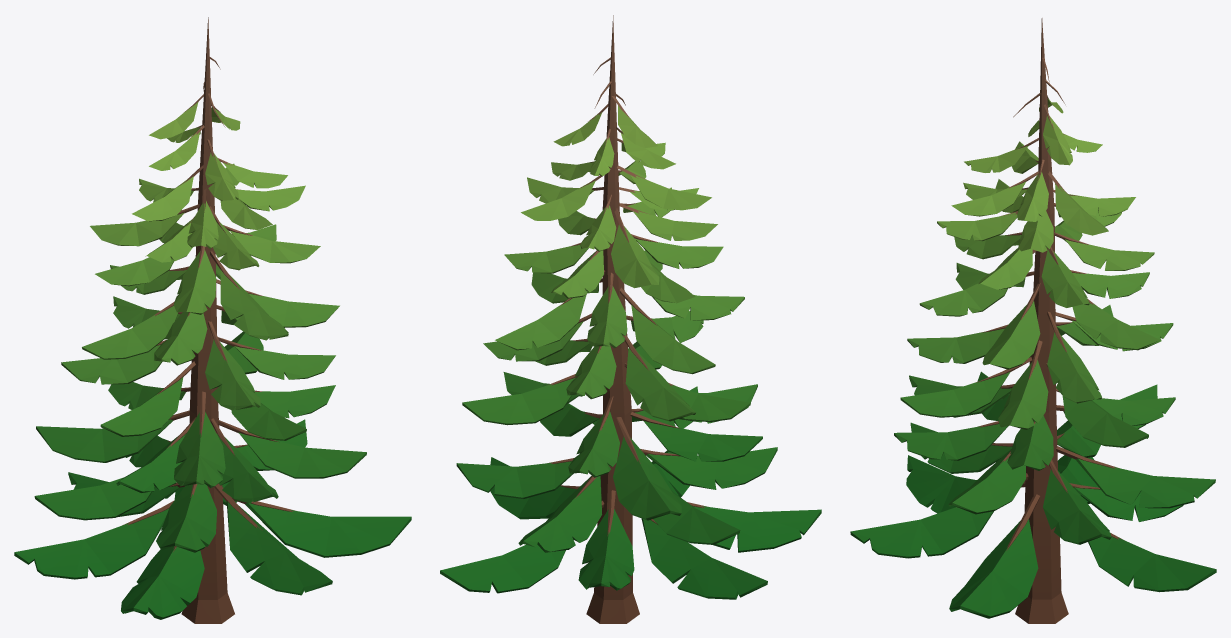
The model's file is SM_Nature_Tree_11.fbx.
The picture shows the model from 3 angles, left to right: view 1: azimuth 30°, elevation 25°; view 2: azimuth 150°, elevation 25°; view 3: azimuth 270°, elevation 25°; orthographic projection.
Parts seen in each view (by area): view 1: SM_Nature_Tree_11_LOD0; view 2: SM_Nature_Tree_11_LOD0; view 3: SM_Nature_Tree_11_LOD0.
Part boxes in pixels (box(x1,y1,x2,y2)): SM_Nature_Tree_11_LOD0: box(14, 17, 411, 623); SM_Nature_Tree_11_LOD0: box(440, 15, 821, 623); SM_Nature_Tree_11_LOD0: box(850, 18, 1216, 623).
Bounding box in the file's own units: 432 × 735 × 407.
